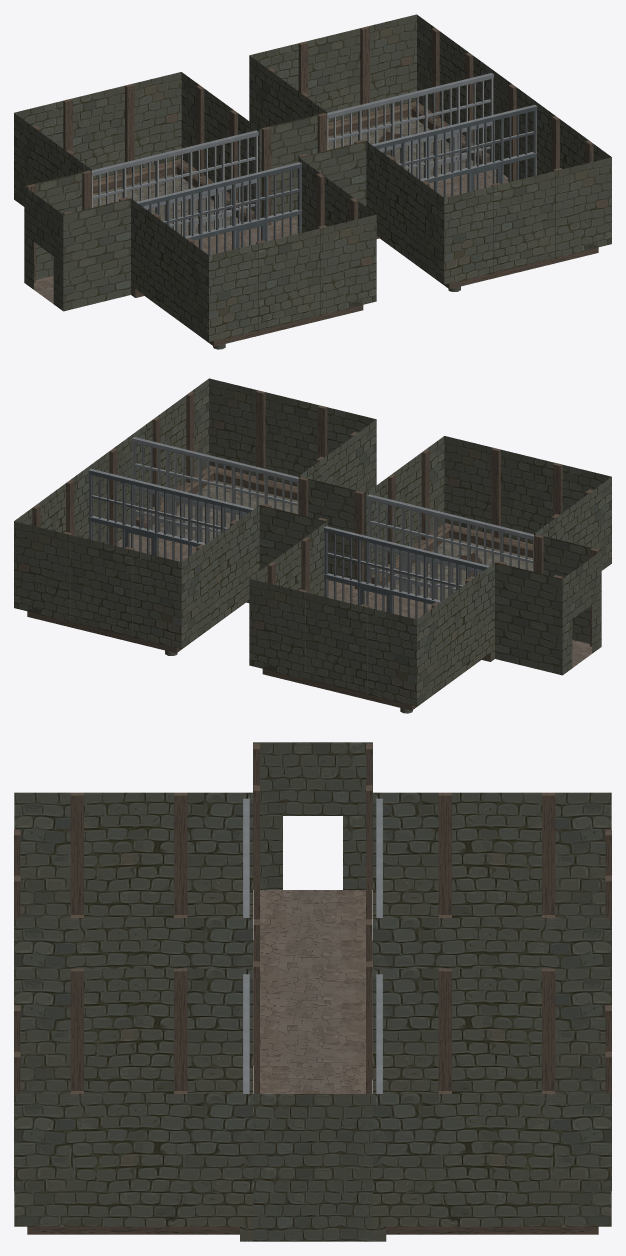
File: Prison_1.fbx
The picture shows the model from 3 angles, top to bottom: view 1: azimuth 30°, elevation 25°; view 2: azimuth 150°, elevation 25°; view 3: azimuth 270°, elevation 25°; orthographic projection. The views are drawn at different scales.
Visible parts, largest first — view 1: wall_1 (×4), Iron_grill_D (×4), Iron_grill_A (×4), Corridor_wall_4, Iron_grill_C (×4), floor (×2), Corridor_wall_2, Corridor_wall_6, Corridor_wall_3, Iron_grill_B (×4), Corridor_wall_1, Corridor_wall_5 (+8 smaller); view 2: wall_1 (×4), Iron_grill_D (×4), Iron_grill_A (×4), Corridor_wall_5, Iron_grill_C (×4), floor (×2), Corridor_wall_3, Corridor_wall_6, Corridor_wall_2, Iron_grill_B (×4), Corridor_wall_1, Corridor_wall_4 (+8 smaller); view 3: wall_1 (×4), Corridor_wall_1, Corridor_floor_4, Corridor_wall_6, wood_Pillar_3 (×4), wood_Pillar_4 (×4), Corridor_floor_3, Iron_grill_A (×4), Corridor_floor_2, Corridor_wood_Pillar_8, Corridor_wood_Pillar_9, Corridor_wood_Pillar_2 (+1 smaller).
Part boxes in pixels (left/top/right/bottom): wall_1 (×4): left=14, top=14, right=611, bottom=346; Iron_grill_D (×4): left=98, top=81, right=527, bottom=255; Iron_grill_A (×4): left=92, top=73, right=537, bottom=240; Corridor_wall_4: left=63, top=198, right=130, bottom=311; Iron_grill_C (×4): left=92, top=78, right=536, bottom=250; floor (×2): left=93, top=116, right=476, bottom=236; Corridor_wall_2: left=259, top=112, right=327, bottom=222; Corridor_wall_6: left=24, top=186, right=63, bottom=310; Corridor_wall_3: left=299, top=141, right=366, bottom=206; Iron_grill_B (×4): left=93, top=99, right=534, bottom=226; Corridor_wall_1: left=495, top=72, right=533, bottom=179; Corridor_wall_5: left=25, top=170, right=91, bottom=279; wall_1 (×4): left=14, top=378, right=611, bottom=710; Iron_grill_D (×4): left=98, top=445, right=527, bottom=619; Iron_grill_A (×4): left=88, top=437, right=533, bottom=604; Corridor_wall_5: left=495, top=562, right=562, bottom=675; Iron_grill_C (×4): left=89, top=442, right=533, bottom=614; floor (×2): left=149, top=480, right=532, bottom=600; Corridor_wall_3: left=298, top=476, right=366, bottom=586; Corridor_wall_6: left=562, top=550, right=601, bottom=674; Corridor_wall_2: left=259, top=505, right=326, bottom=570; Iron_grill_B (×4): left=91, top=463, right=532, bottom=590; Corridor_wall_1: left=92, top=436, right=130, bottom=543; Corridor_wall_4: left=534, top=534, right=600, bottom=643; wall_1 (×4): left=14, top=792, right=611, bottom=1241; Corridor_wall_1: left=253, top=1094, right=372, bottom=1241; Corridor_floor_4: left=253, top=940, right=372, bottom=1065; Corridor_wall_6: left=253, top=742, right=372, bottom=889; wood_Pillar_3 (×4): left=174, top=792, right=451, bottom=1090; wood_Pillar_4 (×4): left=70, top=792, right=555, bottom=1090; Corridor_floor_3: left=260, top=890, right=365, bottom=940; Iron_grill_A (×4): left=243, top=798, right=382, bottom=1093; Corridor_floor_2: left=260, top=1066, right=365, bottom=1093; Corridor_wood_Pillar_8: left=253, top=785, right=259, bottom=919; Corridor_wood_Pillar_9: left=366, top=785, right=372, bottom=919; Corridor_wood_Pillar_2: left=366, top=961, right=372, bottom=1093.
Bounding box in the file's own units: 1945 × 406 × 1397.
